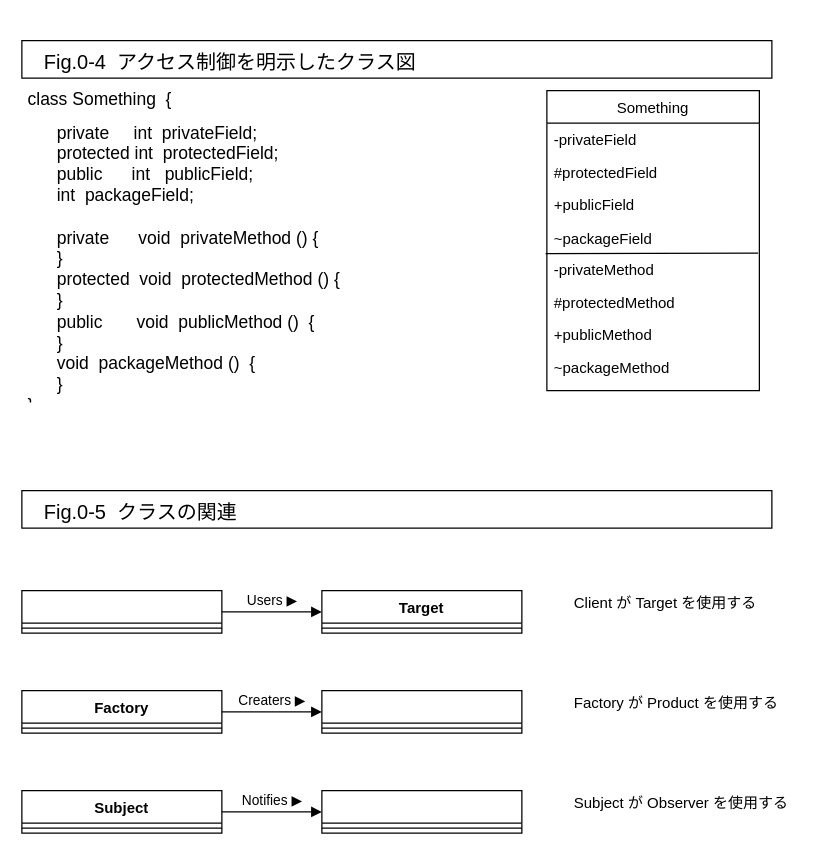
This 819x855 diagram has some shape labels left out. Each missing label, with the centre of its shape:
"Client" goes at pixel 121 611.
"Observer" goes at pixel 421 811.
"Product" goes at pixel 421 711.
